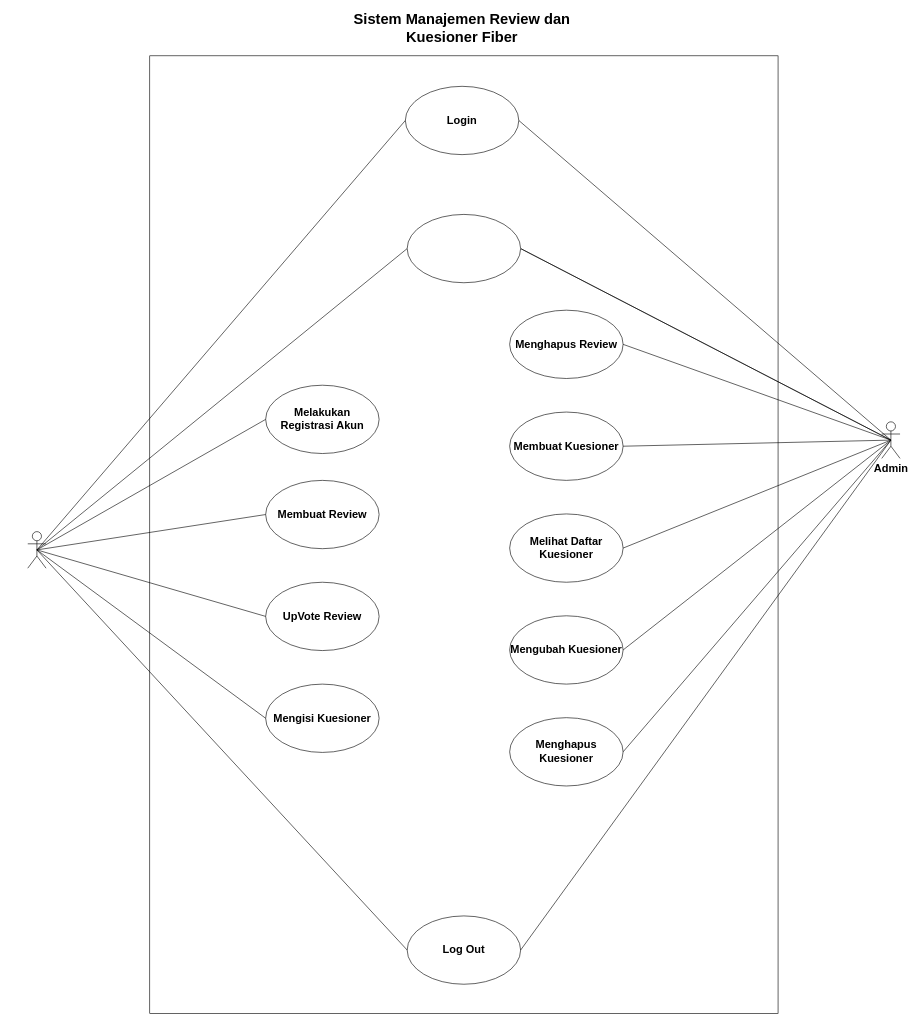
Some shapes in this 919 by 1024 pixel diagram are drawn without their labels. The shapes that lost their labels are listed below. From the top down, each one's centre as x and y in pixels, then its label:
At (x=464, y=248): "Melihat Daftar Review".
At (x=36, y=549): "Pengguna".
